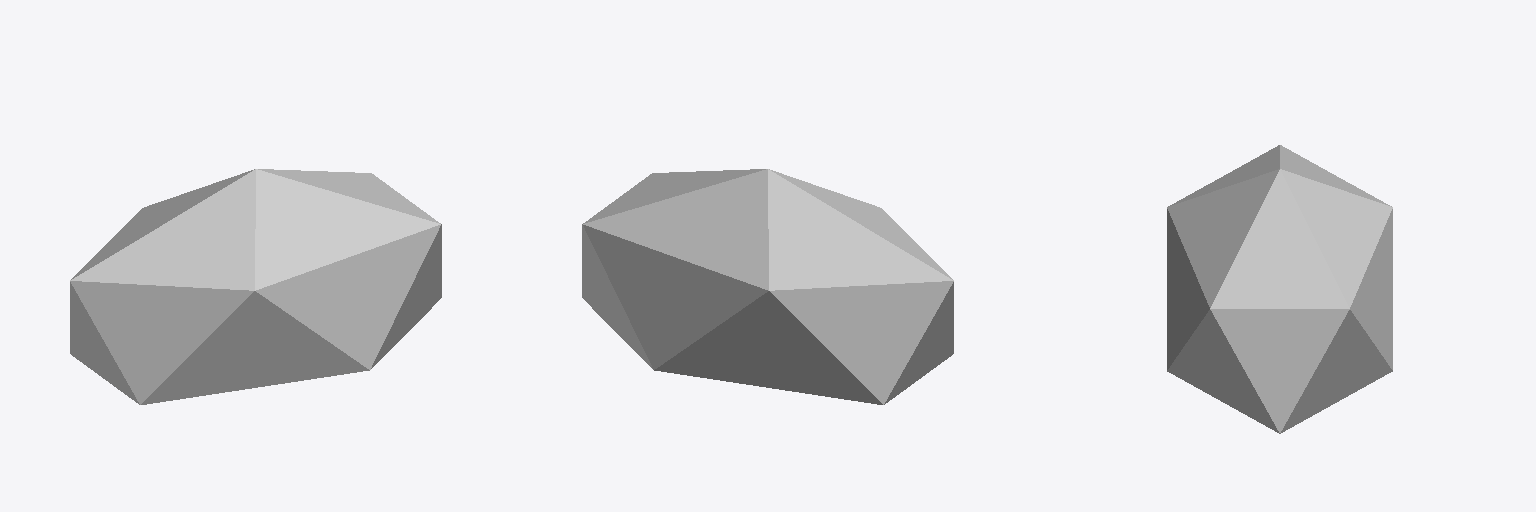
Rendered from rock2.obj.
3 views of the same model, side by side, from view 1: azimuth 30°, elevation 25°; view 2: azimuth 150°, elevation 25°; view 3: azimuth 270°, elevation 25° (orthographic).
Visible parts, largest first — view 1: rock2_Icosphere.012; view 2: rock2_Icosphere.012; view 3: rock2_Icosphere.012.
Boxes of the visible parts, x1,y1,x2,y2 form: rock2_Icosphere.012: [70, 169, 441, 404]; rock2_Icosphere.012: [582, 169, 953, 404]; rock2_Icosphere.012: [1167, 145, 1392, 433].
Bounding box in the file's own units: 0.9504 × 0.4251 × 0.4997.